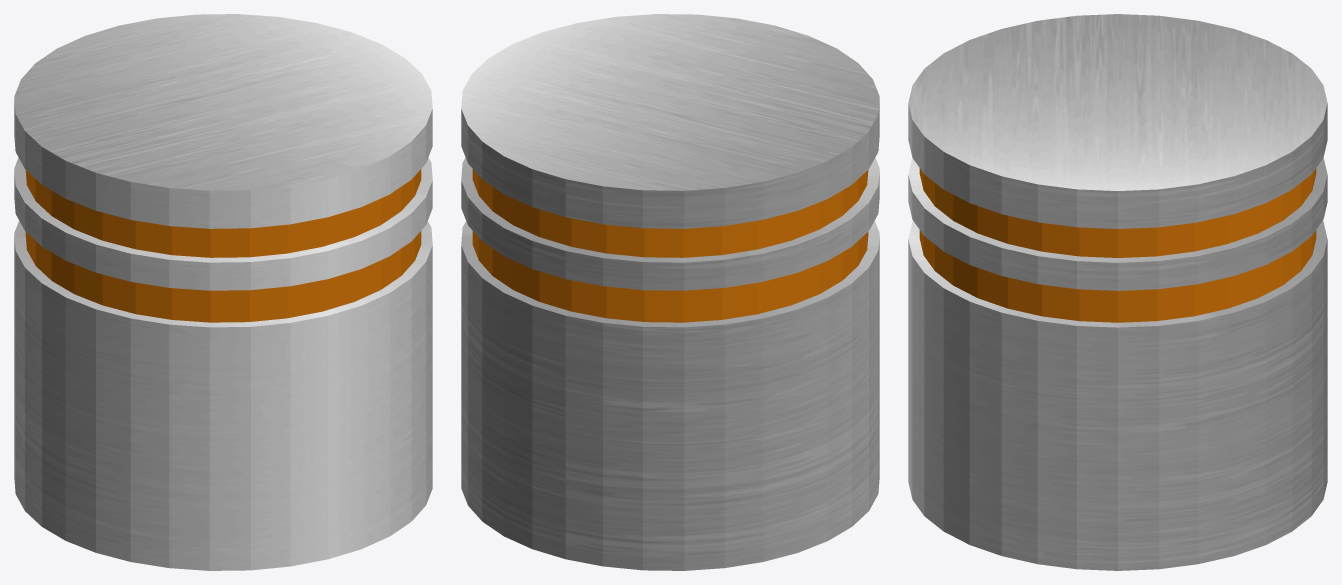
File: metal.fbx
3 renders of one model, left to right at view 1: azimuth 30°, elevation 25°; view 2: azimuth 150°, elevation 25°; view 3: azimuth 270°, elevation 25°, orthographic.
Visible parts, largest first — view 1: Металл, Металл.002; view 2: Металл, Металл.002; view 3: Металл, Металл.002.
Boxes of the visible parts, x1,y1,x2,y2 form: Металл: [14, 14, 432, 570]; Металл.002: [25, 169, 421, 322]; Металл: [461, 14, 879, 570]; Металл.002: [472, 169, 868, 322]; Металл: [908, 14, 1327, 570]; Металл.002: [919, 168, 1316, 322].
Bounding box in the file's own units: 1 × 1 × 1.
Materials: 2 (1 with a texture image).
